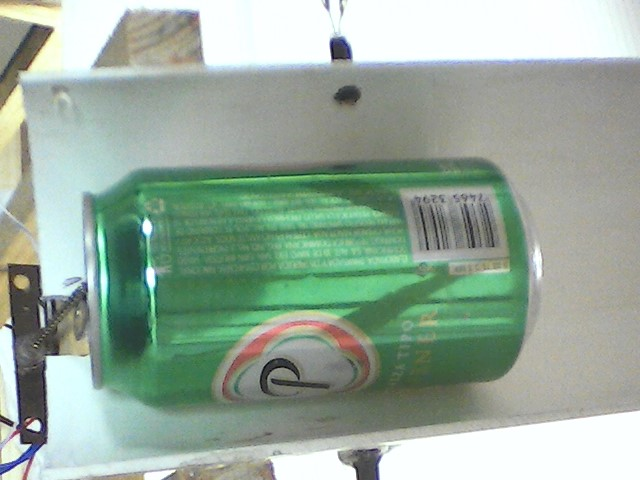lata: (80, 156, 547, 412)
